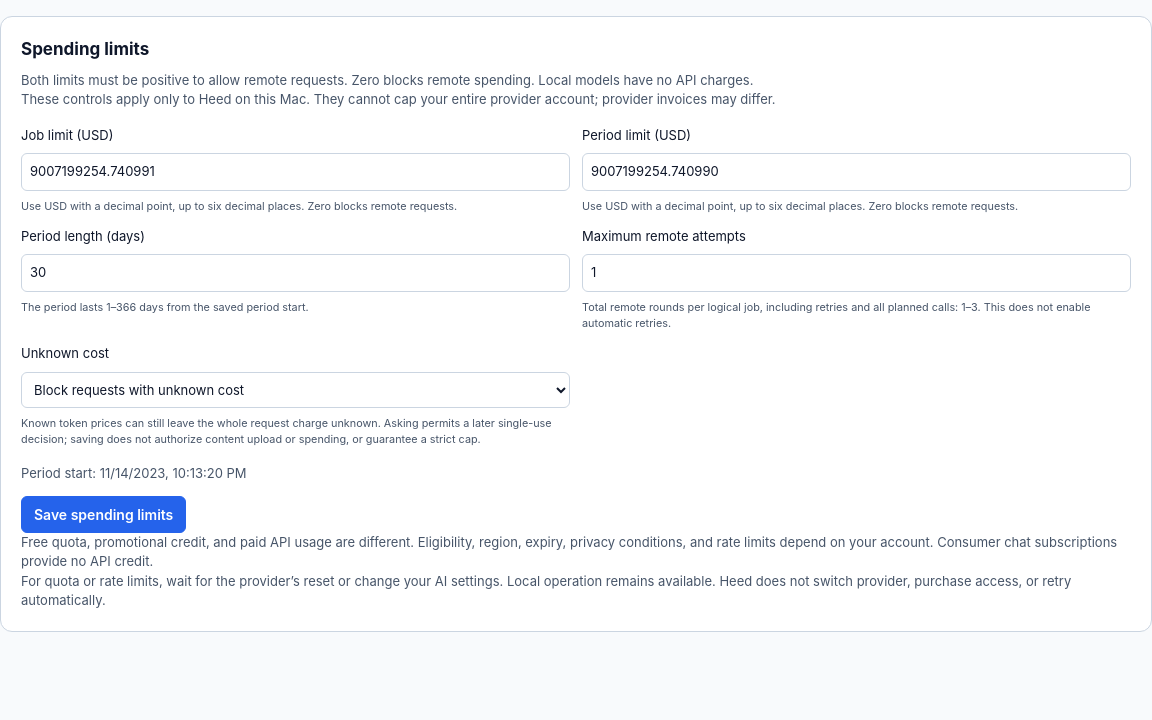
it: prefills and round-trips maximum safe amounts without fractional rounding
Expected: the field labelled "Job limit (USD)" holds "9007199254.740991", x1=21 y1=153 x2=570 y2=190
Expected: the field labelled "Period limit (USD)" holds "9007199254.740990", x1=582 y1=153 x2=1131 y2=190
Step 1. Click the button "Save spending limits" → (104, 514), box x1=21 y1=496 x2=186 y2=533
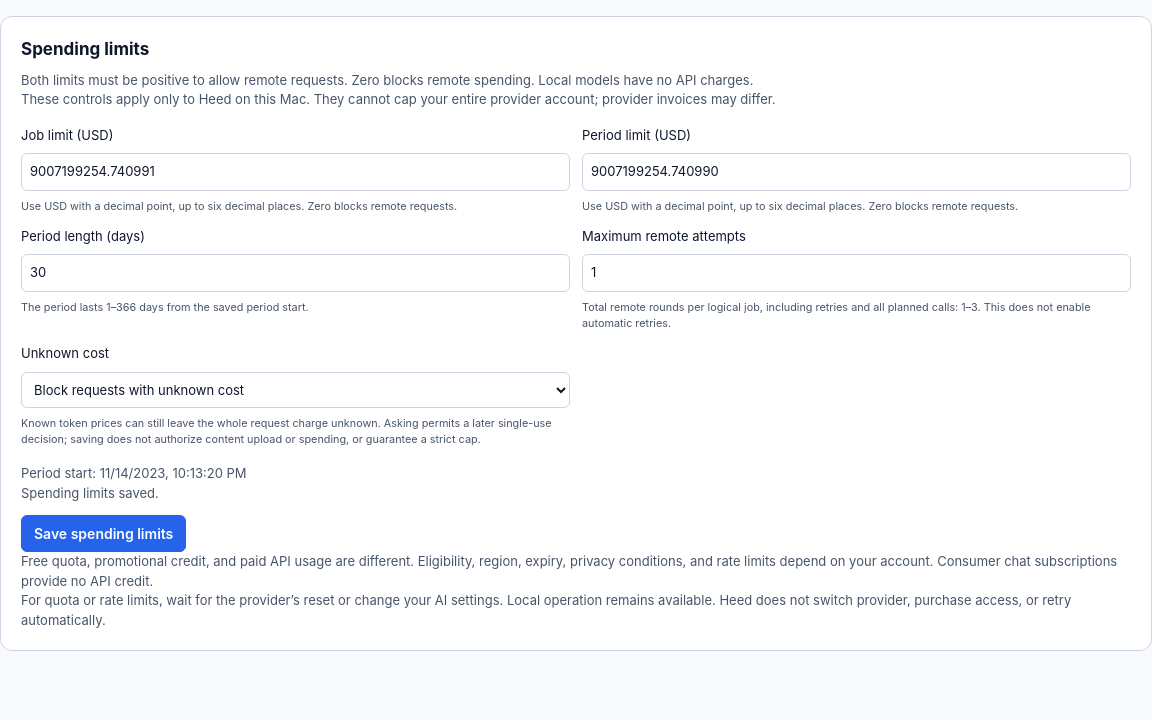
Expected: the message "Spending limits saved." is shown, x1=21 y1=485 x2=159 y2=501
